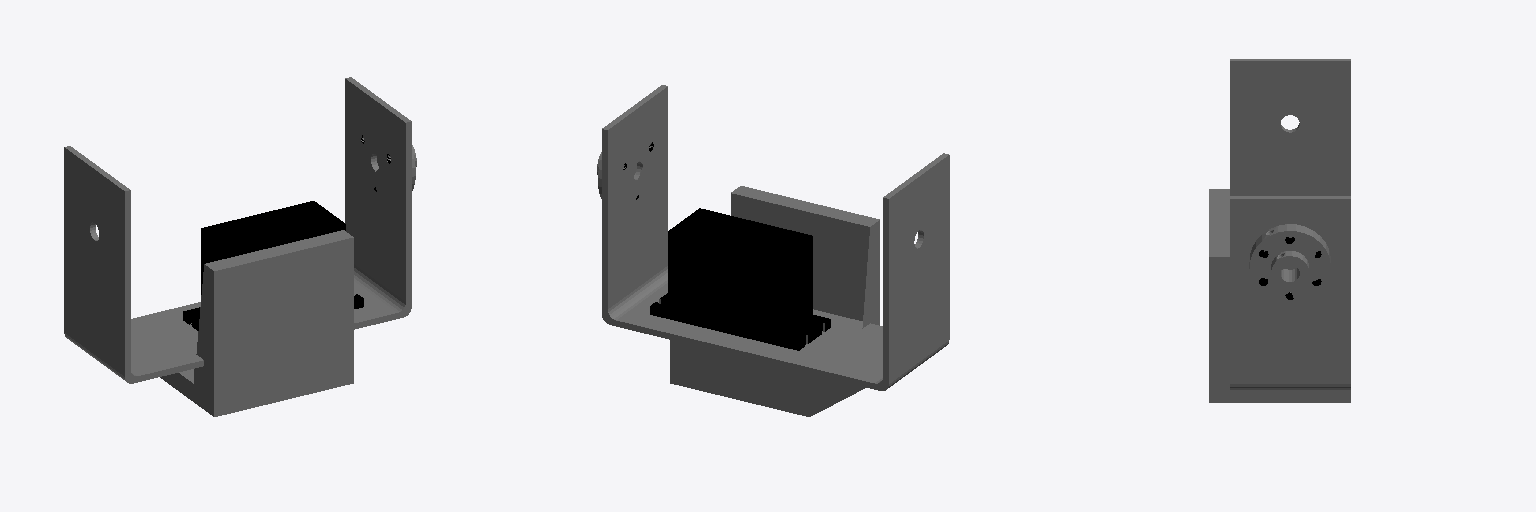
The model's file is pitch_light.obj.
3 views of the same model, side by side, from view 1: azimuth 30°, elevation 25°; view 2: azimuth 150°, elevation 25°; view 3: azimuth 270°, elevation 25° (orthographic).
Bounding box in the file's own units: 112 × 82.96 × 43.95.